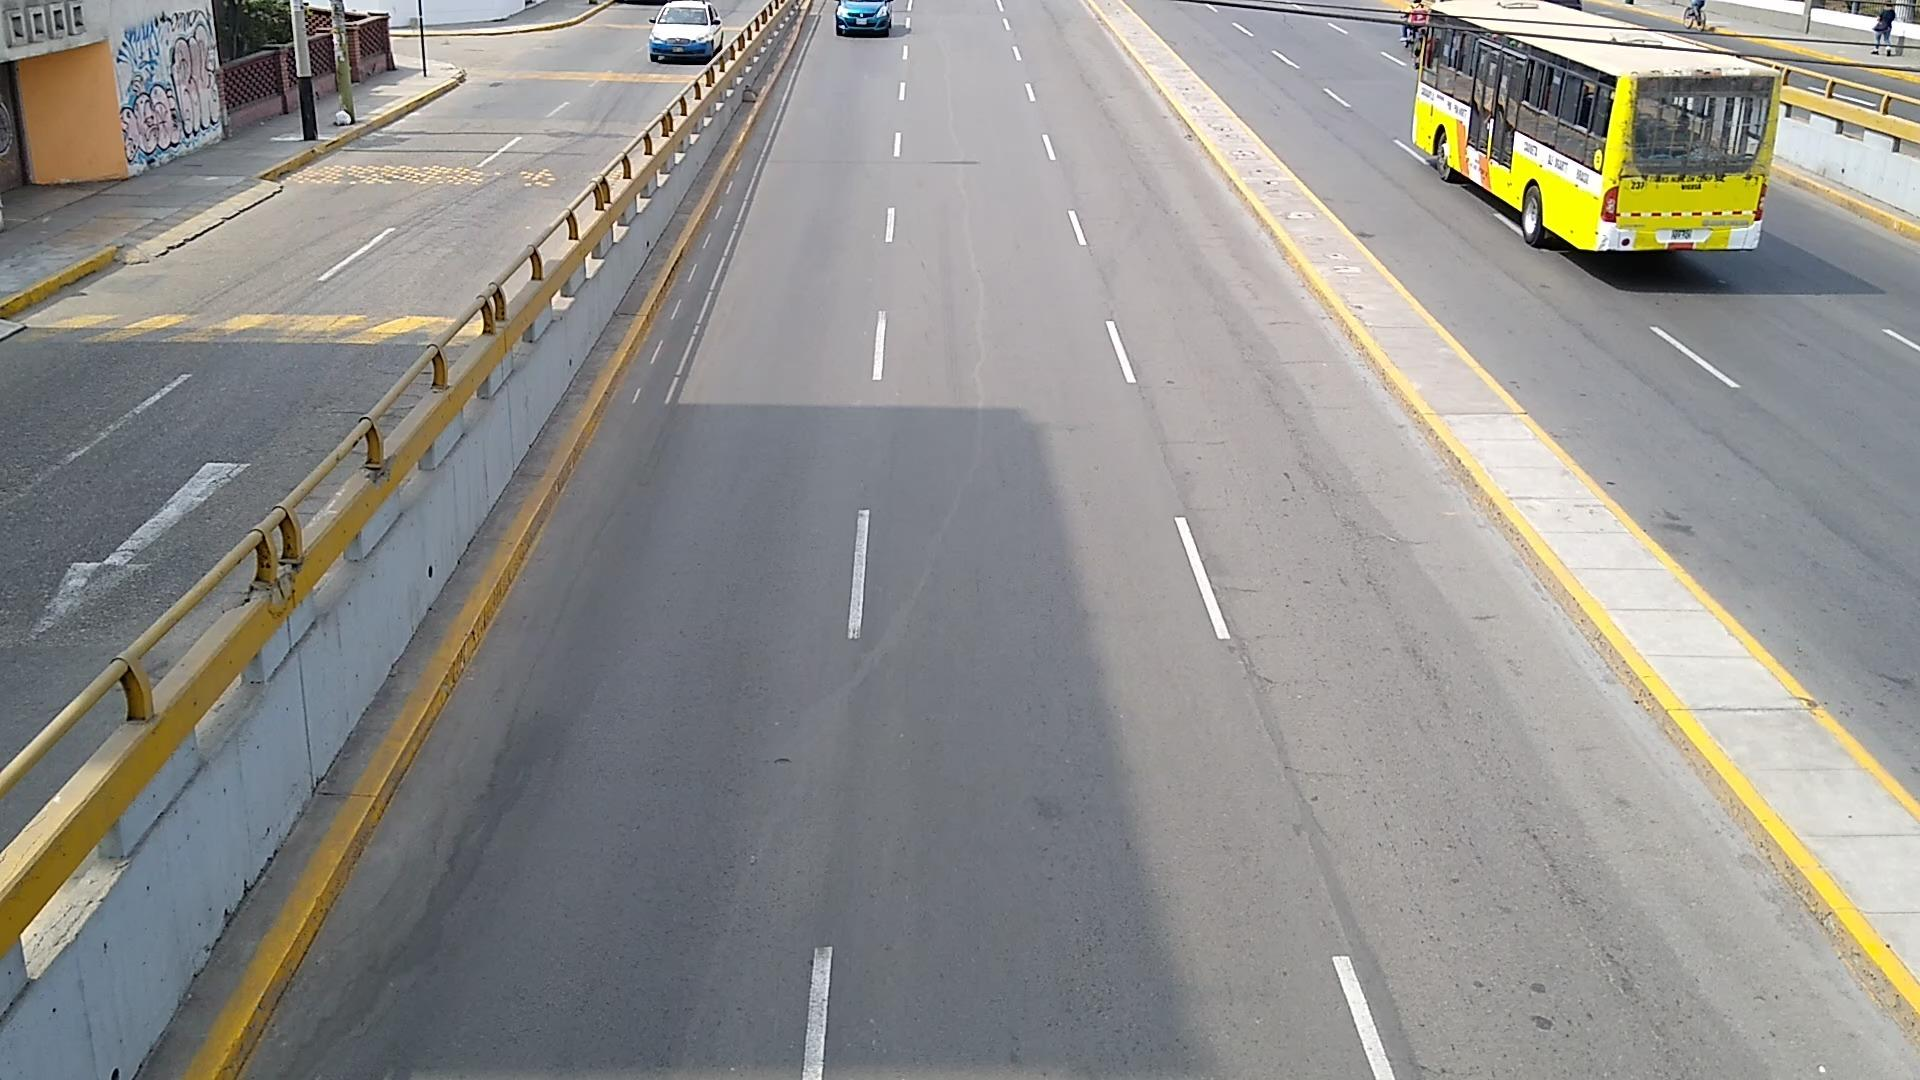bus: (1410, 0, 1778, 252)
car: (649, 0, 724, 58), (836, 0, 893, 34)
